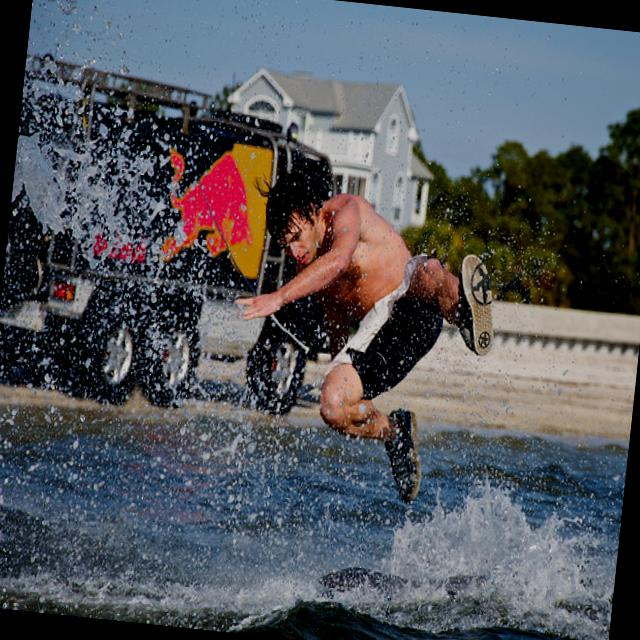Vehicle: (0, 51, 352, 424)
